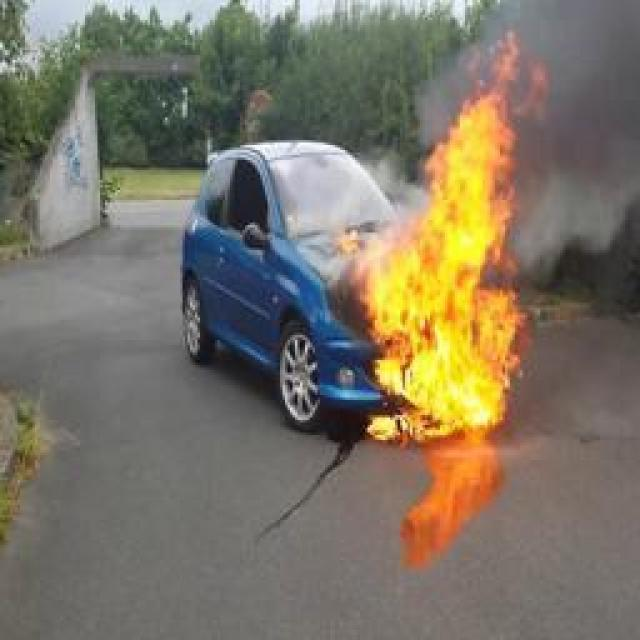Fire: (340, 26, 545, 432)
